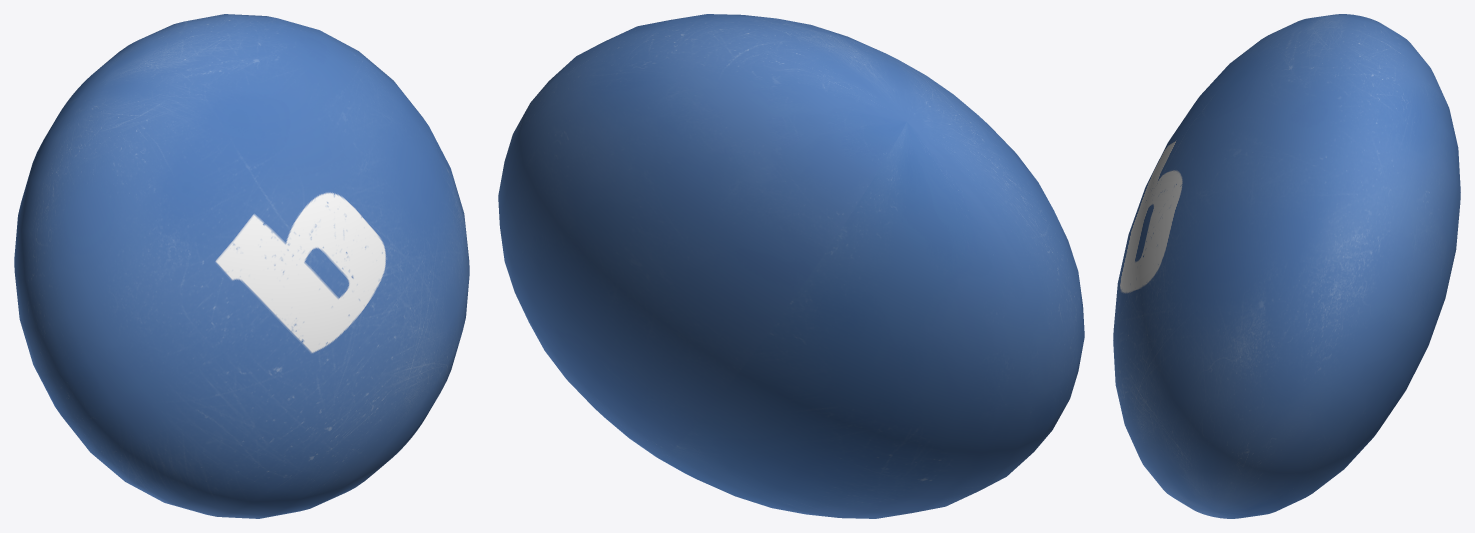
File: b&b_candyshell_blue.glb
3 views of the same model, side by side, from view 1: azimuth 30°, elevation 25°; view 2: azimuth 150°, elevation 25°; view 3: azimuth 270°, elevation 25° (orthographic). The views are drawn at different scales.
Visible parts, largest first — view 1: b&b candy shell; view 2: b&b candy shell; view 3: b&b candy shell.
Boxes of the visible parts, x1,y1,x2,y2 form: b&b candy shell: (14, 14, 469, 518); b&b candy shell: (498, 14, 1084, 518); b&b candy shell: (1113, 14, 1460, 518).
Bounding box in the file's own units: 1.99 × 1.89 × 1.33.
Materials: 1 (1 with a texture image).
